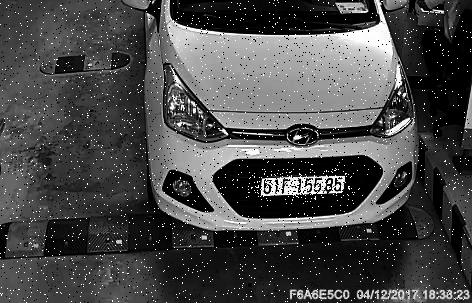License-plate: (249, 170, 357, 202)
